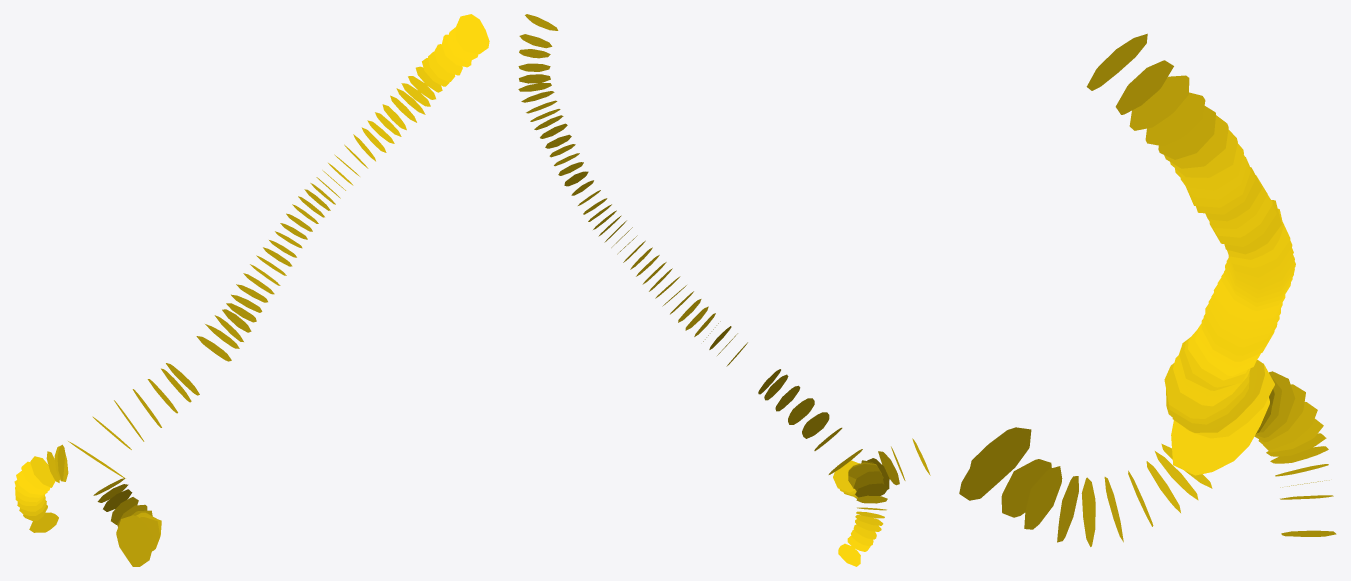
The model's file is ArteryObjAN1-17-sections.obj.
3 renders of one model, left to right at view 1: azimuth 30°, elevation 25°; view 2: azimuth 150°, elevation 25°; view 3: azimuth 270°, elevation 25°, orthographic. The views are drawn at different scales.
Parts seen in each view (by area): view 1: grp1, grp503; view 2: no part large enough to name; view 3: grp203, grp1, grp544, grp564, grp26, grp523, grp47, grp1289, grp584, grp503, grp603, grp1415 (+32 smaller).
Part boxes in pixels (bbox=[...]): grp1: bbox=[116, 515, 152, 566]; grp503: bbox=[455, 14, 489, 54]; grp203: bbox=[1171, 397, 1269, 475]; grp1: bbox=[959, 427, 1031, 500]; grp544: bbox=[1129, 75, 1189, 130]; grp564: bbox=[1145, 92, 1205, 146]; grp26: bbox=[1001, 459, 1051, 517]; grp523: bbox=[1115, 60, 1173, 114]; grp47: bbox=[1024, 466, 1062, 529]; grp1289: bbox=[1164, 363, 1249, 418]; grp584: bbox=[1158, 106, 1215, 159]; grp503: bbox=[1086, 33, 1147, 90]; grp603: bbox=[1164, 115, 1228, 168]; grp1415: bbox=[1186, 363, 1274, 438].
Size of the model in its own units: 19.71 by 20.19 by 8.05.
